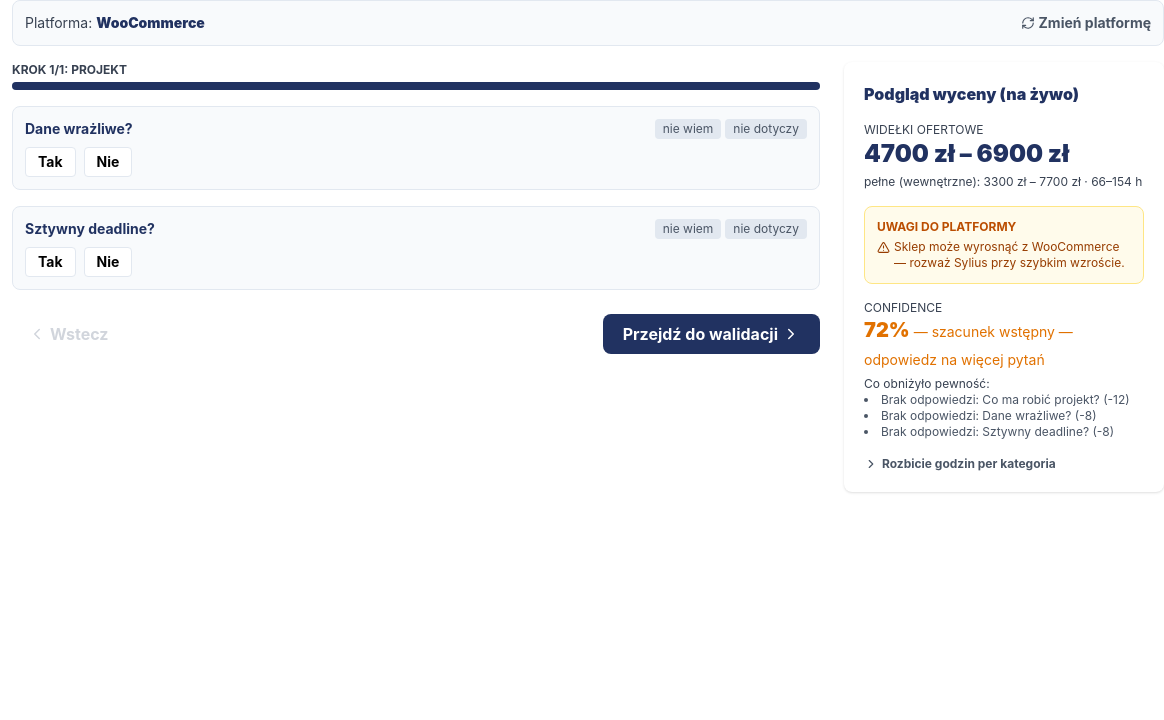
E2E f1b — przepływ do walidacji (bez finalize) › naprawy 1+2+4: dedup, nagłówek archetypu, ostrzeżenie, kategorie po nazwach
The width and height of the screenshot is (1164, 720).
Check: the text "WooCommerce" is shown, box [96,14,205,31]
Check: the button "Zmień platformę" is shown, box [1021,13,1151,33]
# Naprawa 4b: rozbicie per kategoria po nazwach (nie litery A–G).
Click the button "Rozbicie godzin per kategoria" at (960, 464), box [864,456,1056,472]
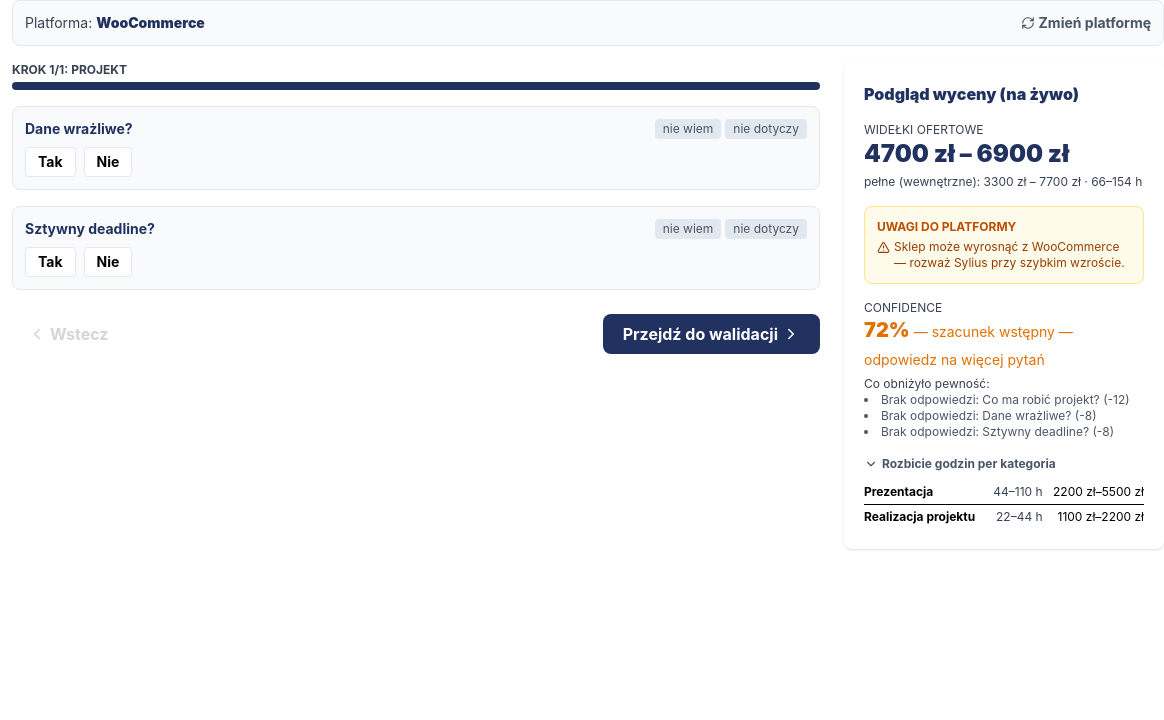
Check: the text "Prezentacja" is shown, box [864,480,988,504]
Check: the text "Realizacja projektu" is shown, box [864,504,988,529]
